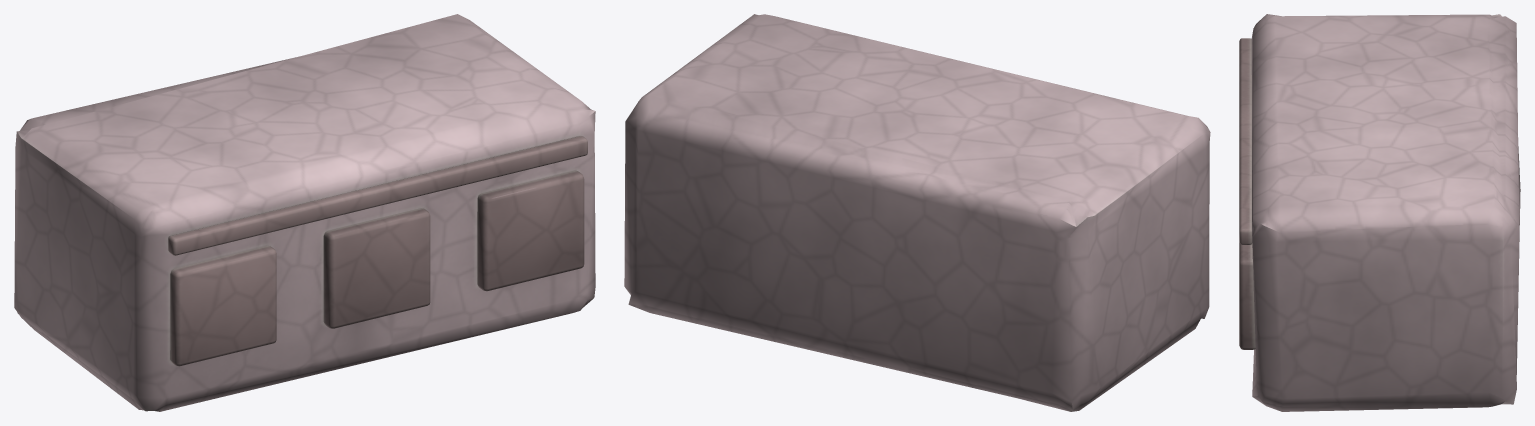
File: cb_obstacle_lantern_block.glb
3 renders of one model, left to right at view 1: azimuth 30°, elevation 25°; view 2: azimuth 150°, elevation 25°; view 3: azimuth 270°, elevation 25°, orthographic. The views are drawn at different scales.
Visible parts, largest first — view 1: cb_obstacle_lantern_block; view 2: cb_obstacle_lantern_block; view 3: cb_obstacle_lantern_block.
Boxes of the visible parts, x1,y1,x2,y2 form: cb_obstacle_lantern_block: (14,14,595,411); cb_obstacle_lantern_block: (624,14,1210,411); cb_obstacle_lantern_block: (1239,14,1520,411).
Bounding box in the file's own units: 2.33 × 1.02 × 1.27.
2 materials, 2 textured.
